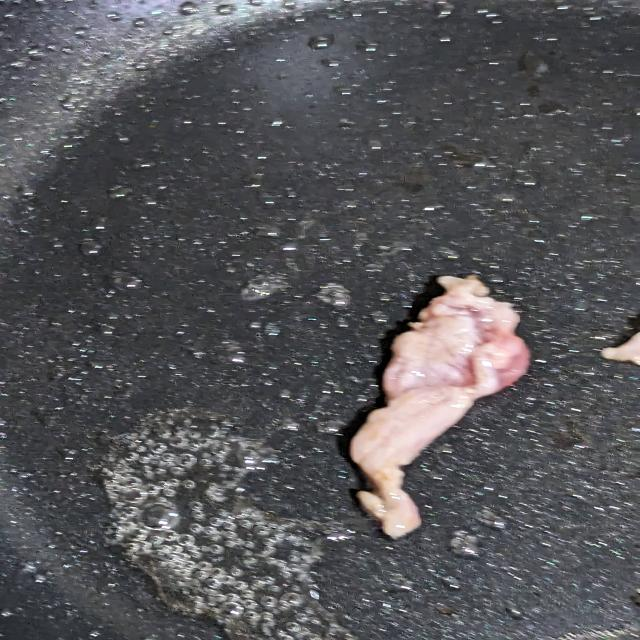NG undercooked pork,: (329, 259, 543, 552)
